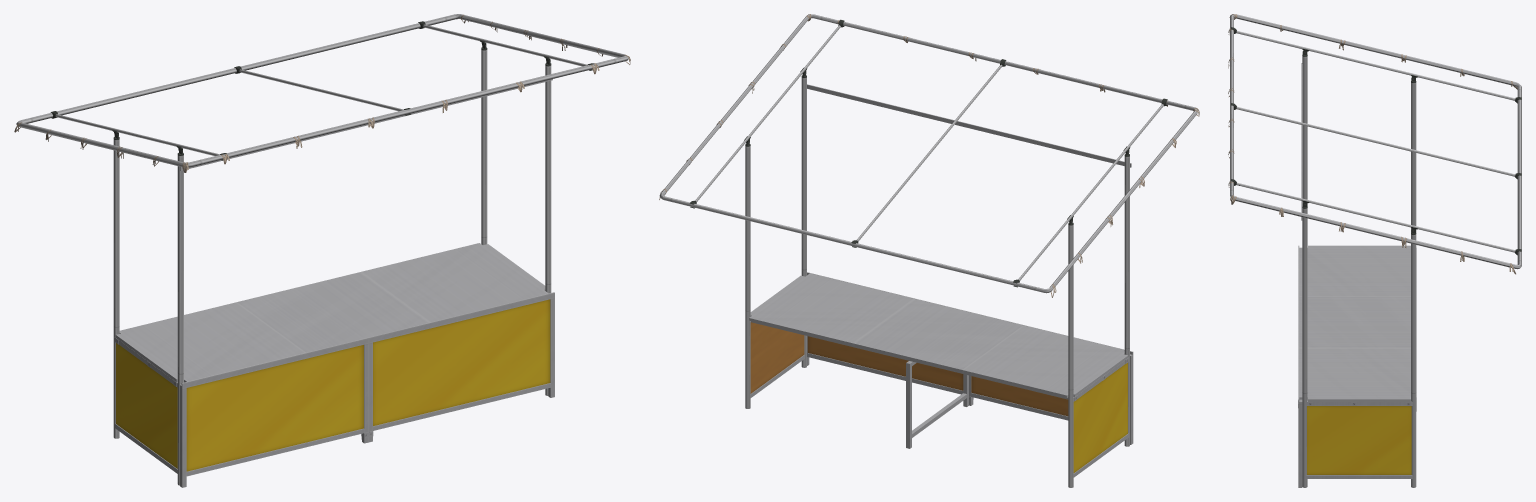
File: jsf_4P_s03_c03_t01.fbx
3 views of the same model, side by side, from view 1: azimuth 30°, elevation 25°; view 2: azimuth 150°, elevation 25°; view 3: azimuth 270°, elevation 25° (orthographic). The views are drawn at different scales.
Parts seen in each view (by area): view 1: Base_s03_c03, Table_4P_s03_t01, Pillar4_s03, Rope_4P_s03; view 2: Table_4P_s03_t01, Pillar4_s03, Base_s03_c03, Support; view 3: Table_4P_s03_t01, Pillar4_s03, Base_s03_c03, Rope_4P_s03.
Boxes of the visible parts, <box> form: Base_s03_c03: <box>114,292,554,487</box>; Table_4P_s03_t01: <box>115,243,548,386</box>; Pillar4_s03: <box>16,14,628,485</box>; Rope_4P_s03: <box>14,14,630,172</box>; Table_4P_s03_t01: <box>749,273,1128,400</box>; Pillar4_s03: <box>659,14,1198,487</box>; Base_s03_c03: <box>750,272,1133,477</box>; Support: <box>906,361,968,448</box>; Table_4P_s03_t01: <box>1299,245,1416,405</box>; Pillar4_s03: <box>1230,14,1521,487</box>; Base_s03_c03: <box>1298,245,1412,487</box>; Rope_4P_s03: <box>1228,14,1517,274</box>.
Size of the model in its own units: 316 by 243 by 211.
